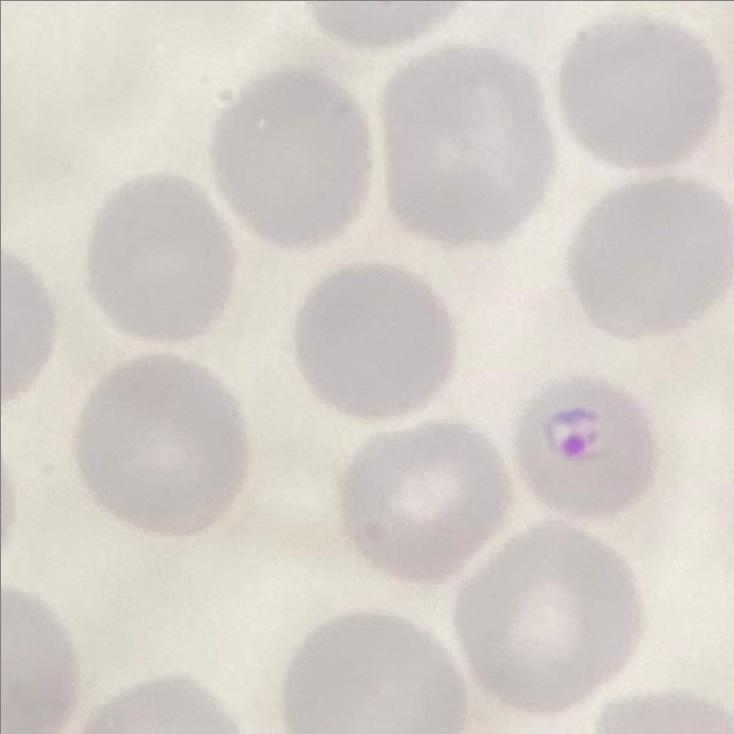Infected: (520, 371, 663, 521)
Uninfected: (380, 45, 558, 242), (458, 531, 649, 711), (74, 353, 249, 537), (344, 413, 514, 580), (294, 261, 462, 425), (212, 77, 375, 246), (570, 181, 734, 345), (550, 17, 725, 168), (80, 177, 235, 344), (280, 613, 470, 734)
